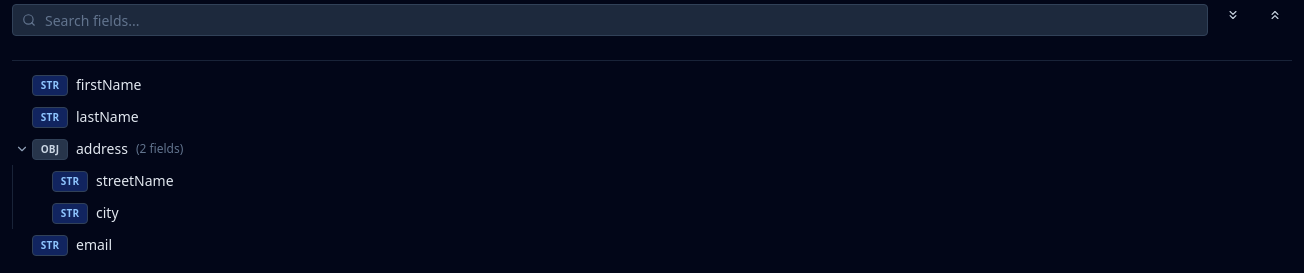
Scenario: SchemaTreeView › Search (AE-03) › shows result count
Type "Name" into the field named "Search schema fields".
click(610, 20); type("Name")  # box [12,4,1208,36]
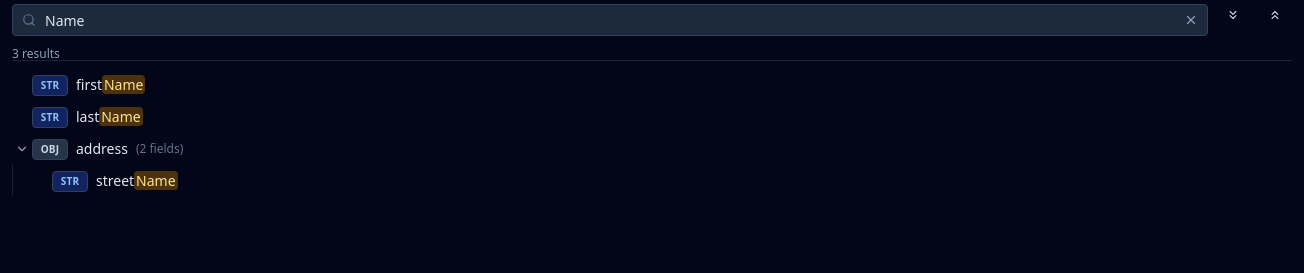
Expected: the text "3 results" is shown, [12,45,60,62]
